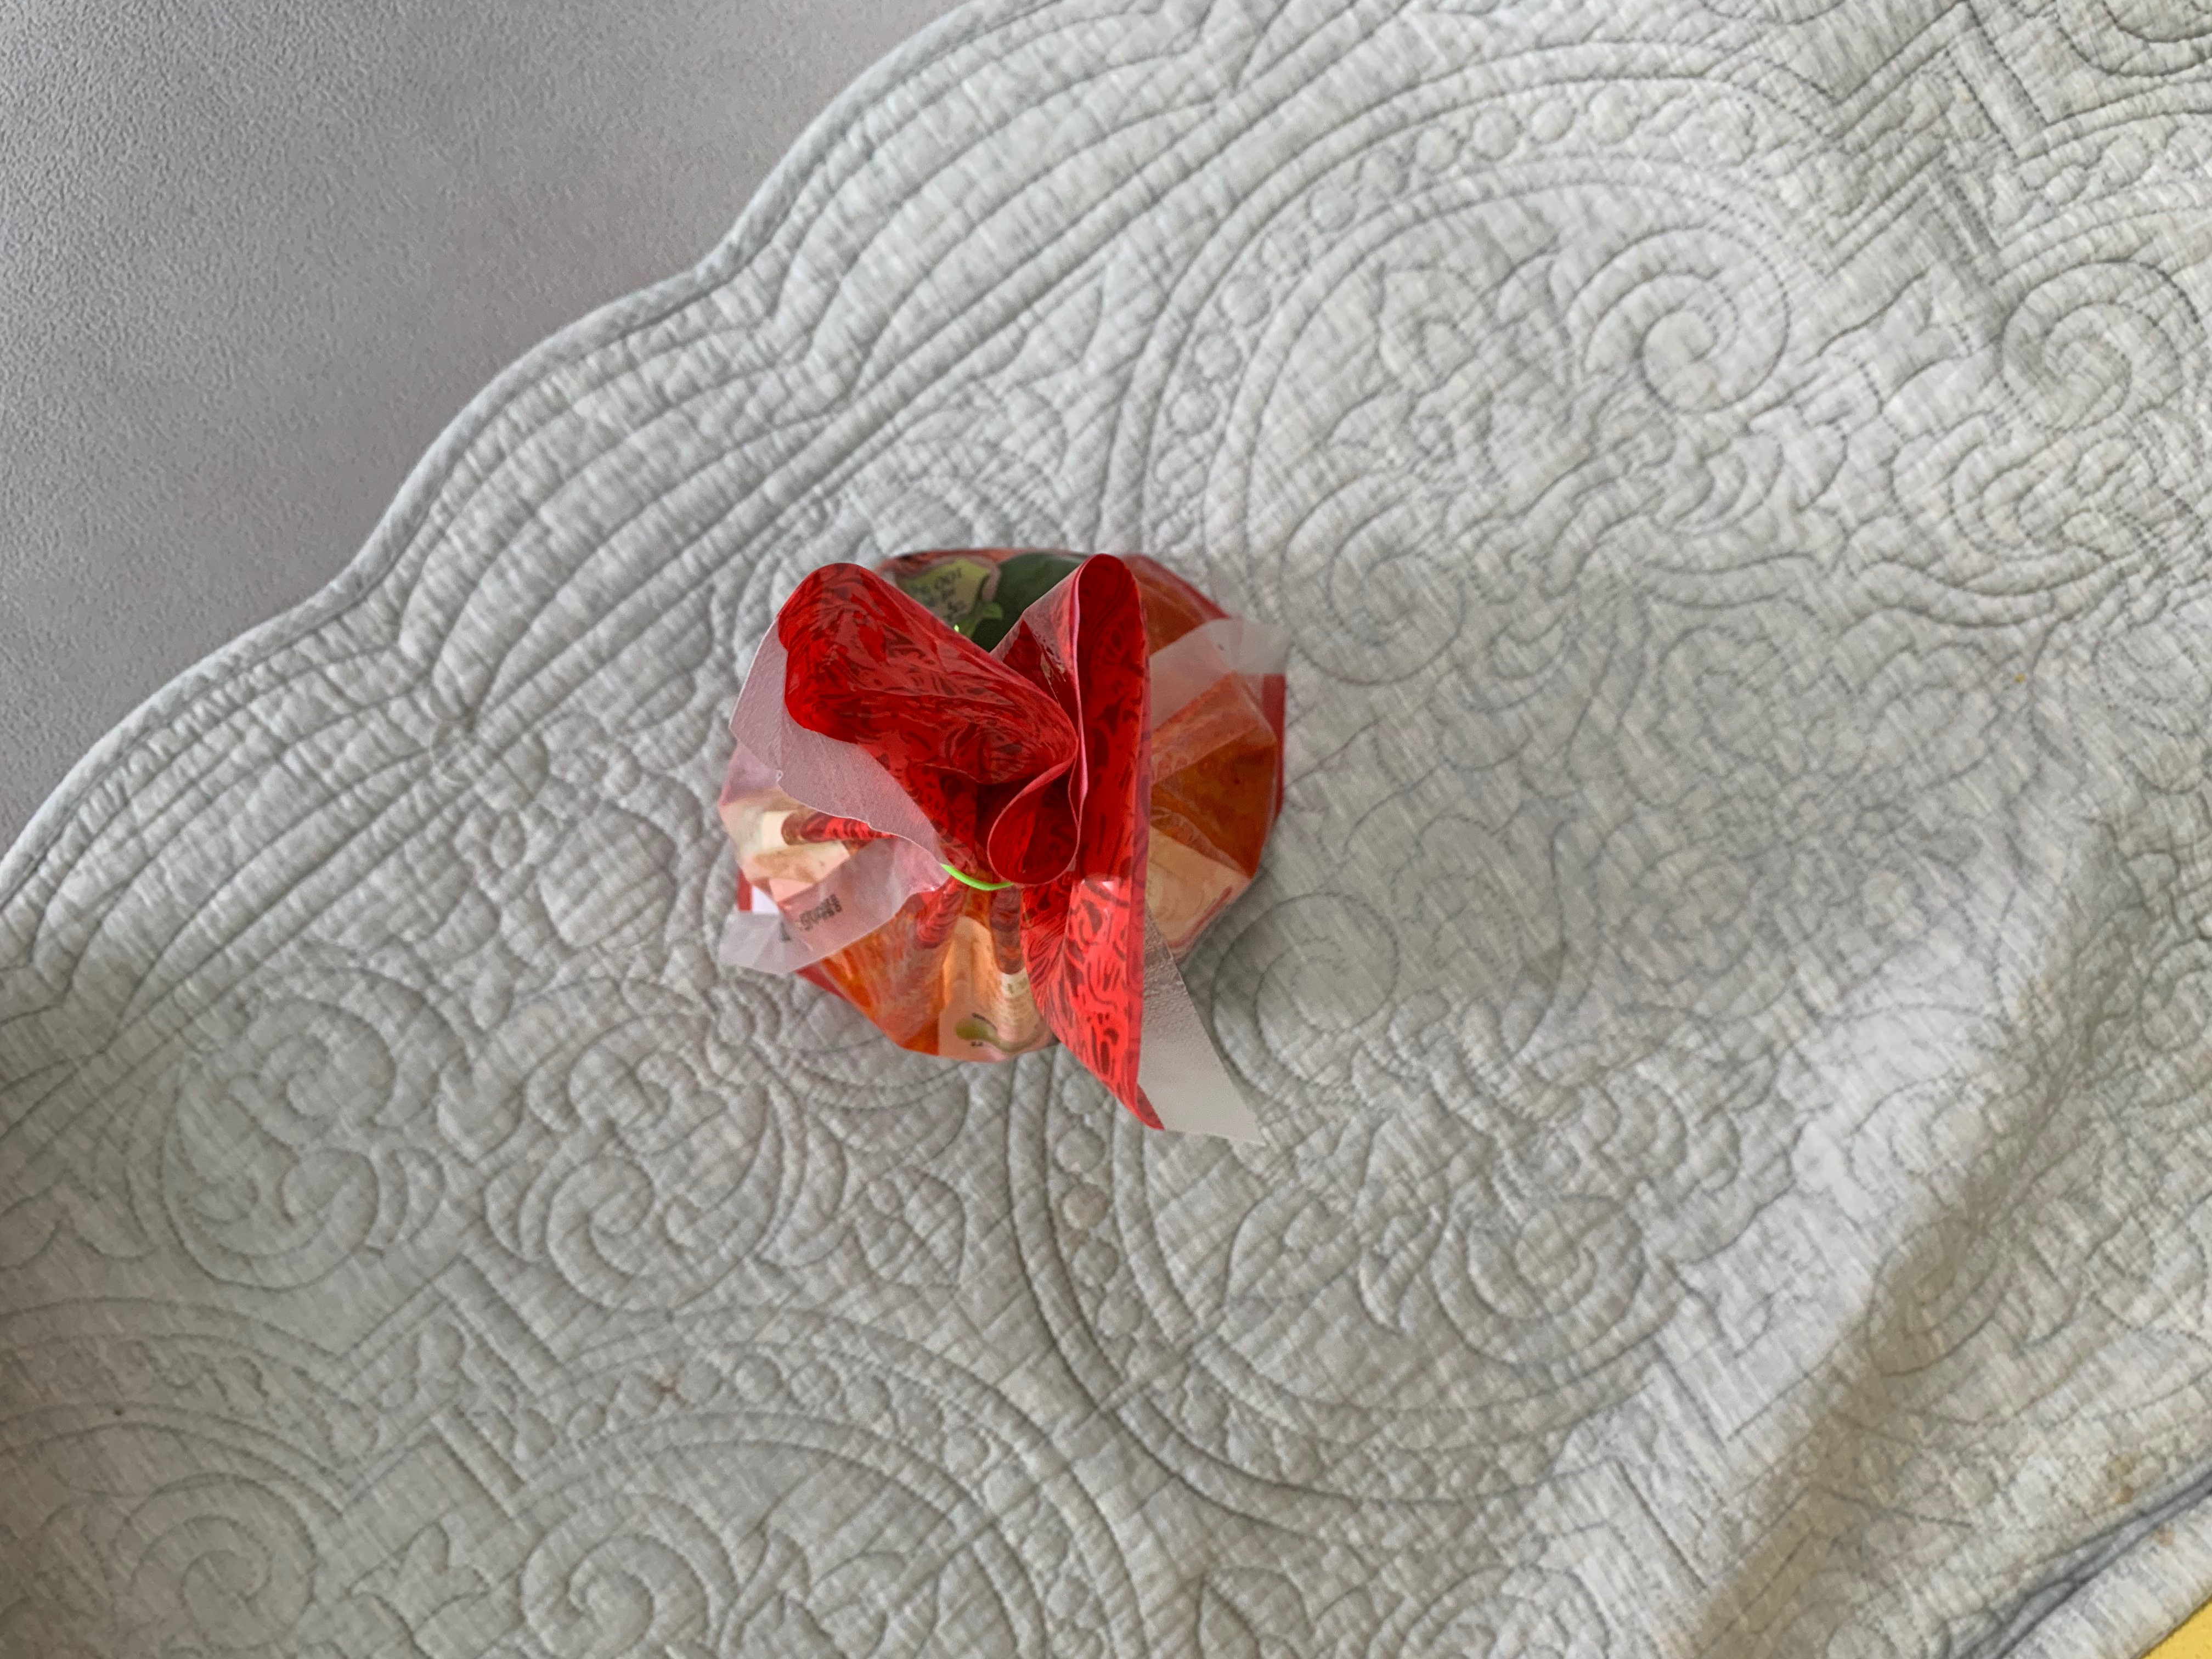kimchi: (723, 551, 1285, 1124)
